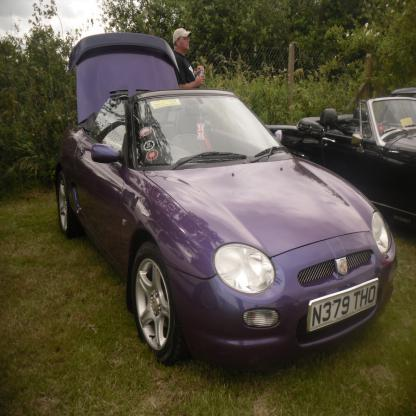car: (43, 27, 403, 392), (263, 86, 415, 237)
